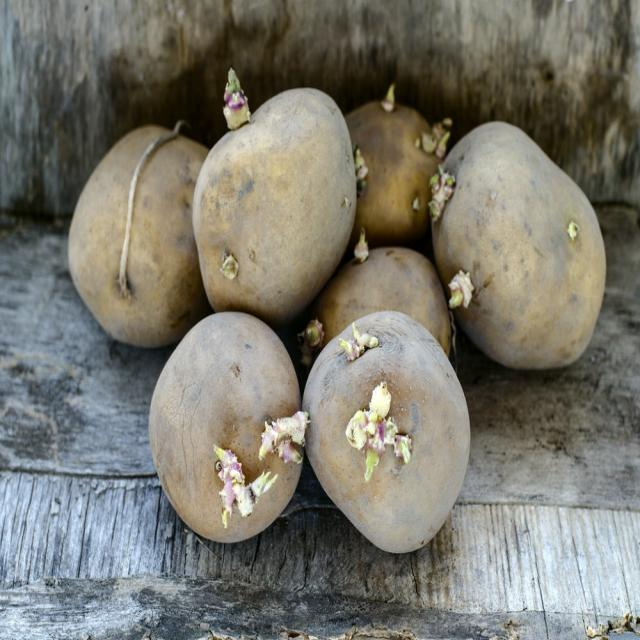potato: (70, 118, 210, 342)
